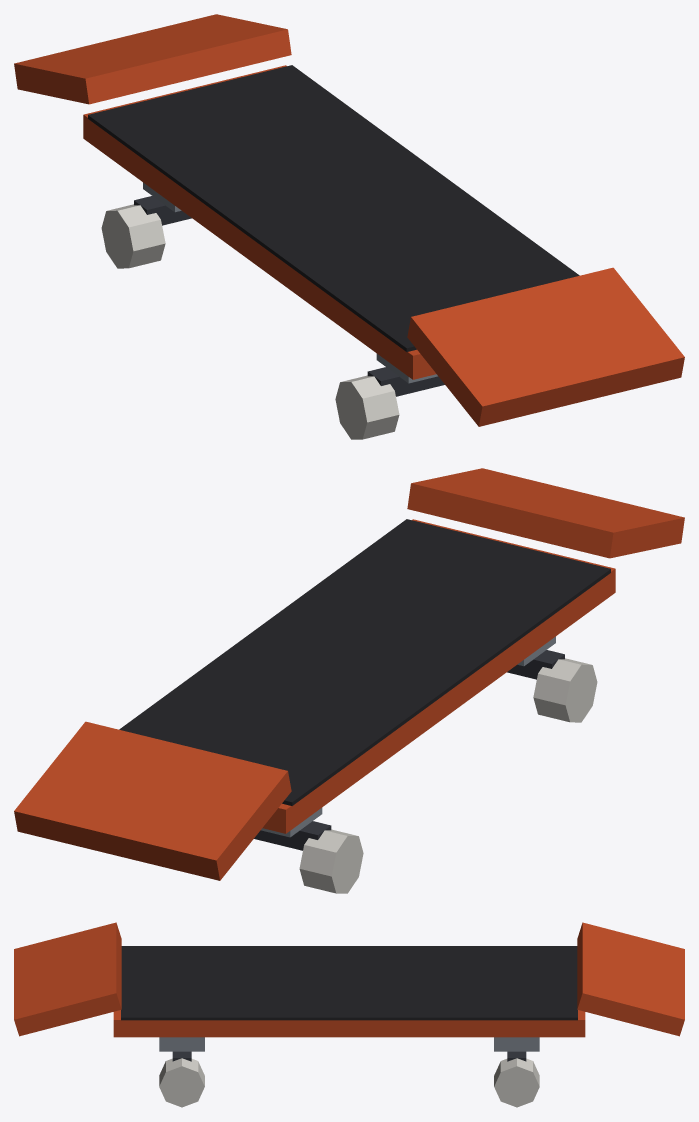
File: veh_skateboard.glb
The picture shows the model from 3 angles, top to bottom: view 1: azimuth 30°, elevation 25°; view 2: azimuth 150°, elevation 25°; view 3: azimuth 270°, elevation 25°; orthographic projection. The views are drawn at different scales.
Visible parts, largest first — view 1: veh_skateboard; view 2: veh_skateboard; view 3: veh_skateboard.
Boxes of the visible parts, x1,y1,x2,y2 form: veh_skateboard: [14, 14, 684, 439]; veh_skateboard: [14, 468, 684, 893]; veh_skateboard: [14, 922, 684, 1107].
Size of the model in its own units: 0.25 by 0.1588 by 0.8815.
